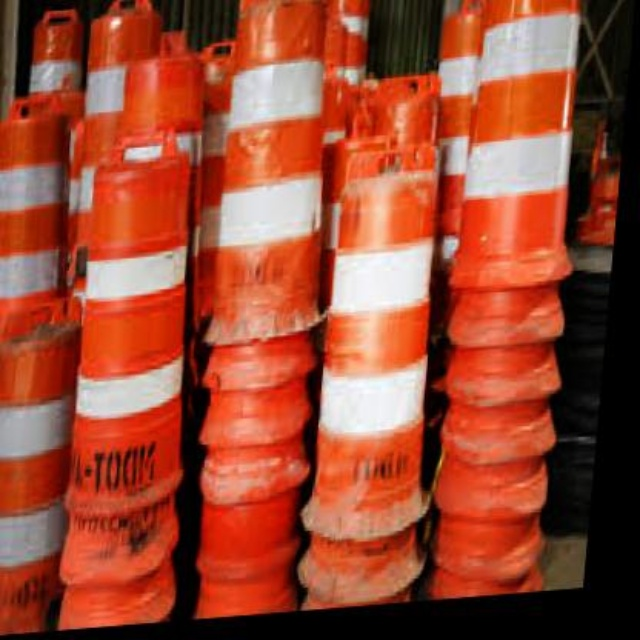obstacle: (309, 138, 449, 564), (70, 138, 213, 538), (446, 0, 597, 309), (207, 8, 338, 358)
